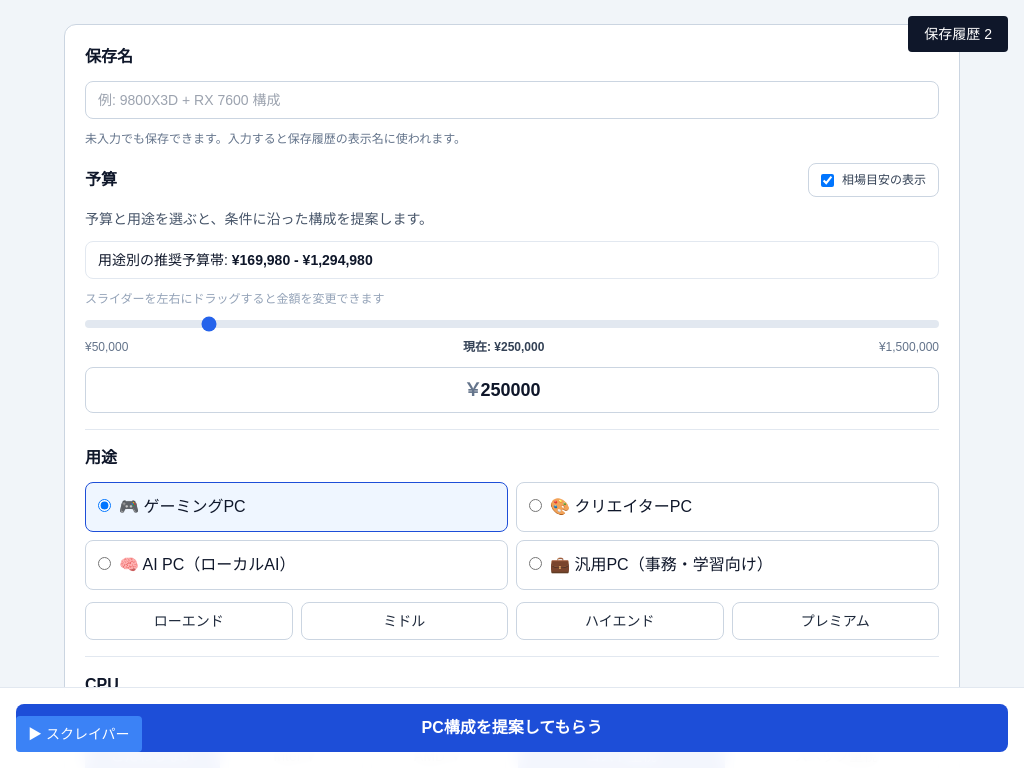
Test: App history panel › shows dedicated toast when OS required budget error occurs
What coordinates should you click on to do the following:
click the button "PC構成を提案してもらう"
I would click on:
 (512, 728)
Its box is left=16, top=704, right=1008, bottom=752.
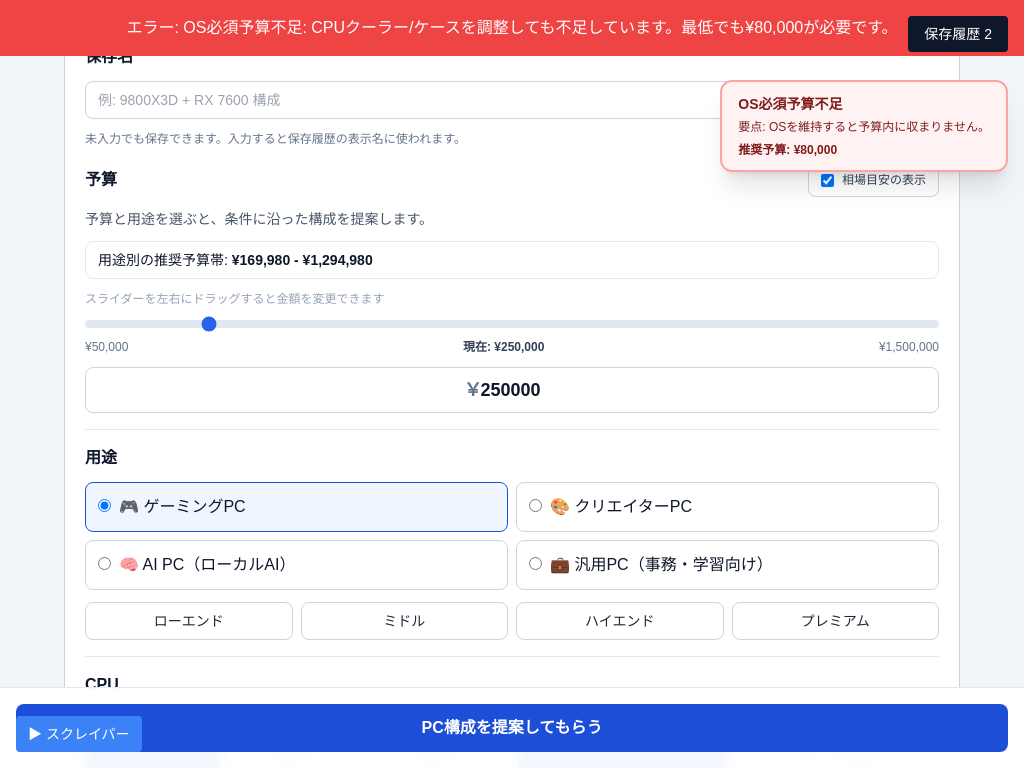
expect the text "OS必須予算不足" is shown: met, box left=738, top=96, right=842, bottom=112
expect the text "OS必須予算不足" shows "要点: OSを維持すると予算内に収まりません。": met, box left=720, top=80, right=1008, bottom=172
expect the text "OS必須予算不足" shows "推奨予算: ¥80,000": met, box left=720, top=80, right=1008, bottom=172
